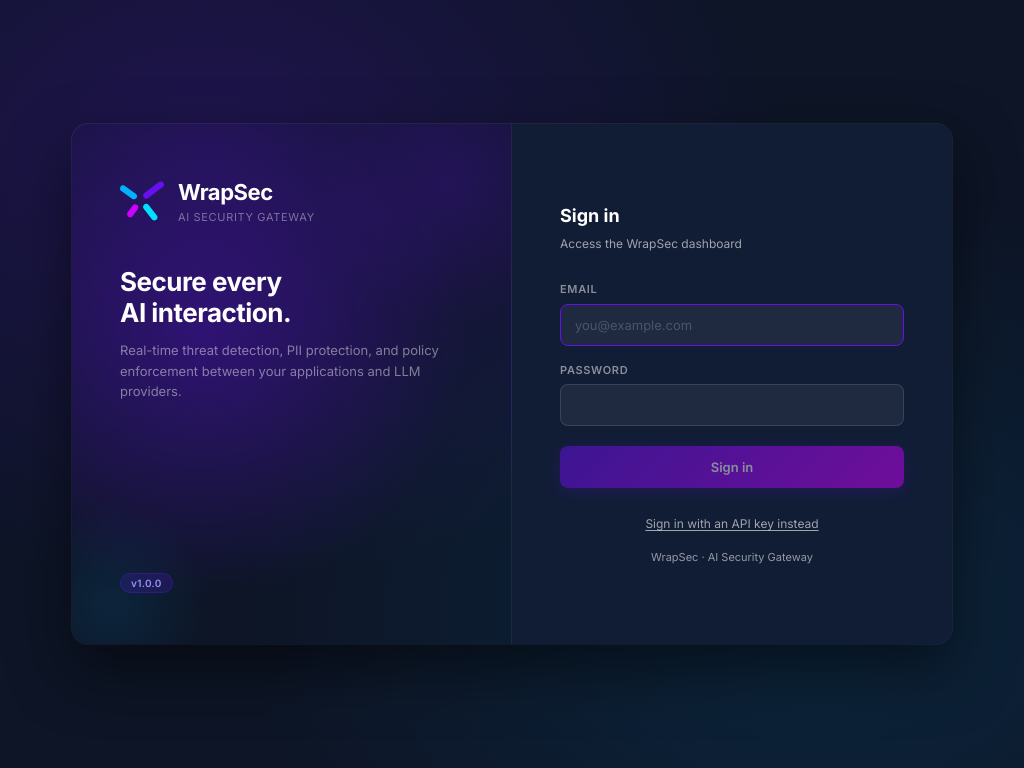
it: LoginPage credentials flow › maps ACCOUNT_LOCKED to the locked error message
Step 1. Type "a@b.com" into the field with placeholder "you@example.com" → (732, 325), box x1=560 y1=304 x2=904 y2=346
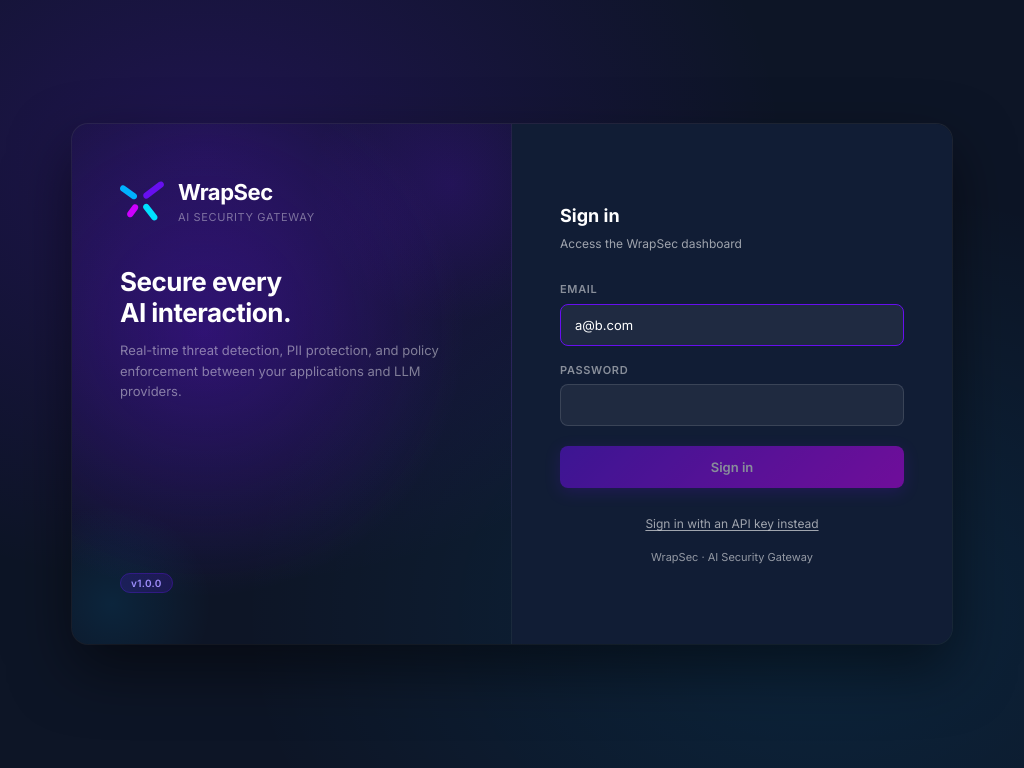
Step 2. Type "pw123456" into the password field named "Password" → (732, 405), box x1=560 y1=384 x2=904 y2=426
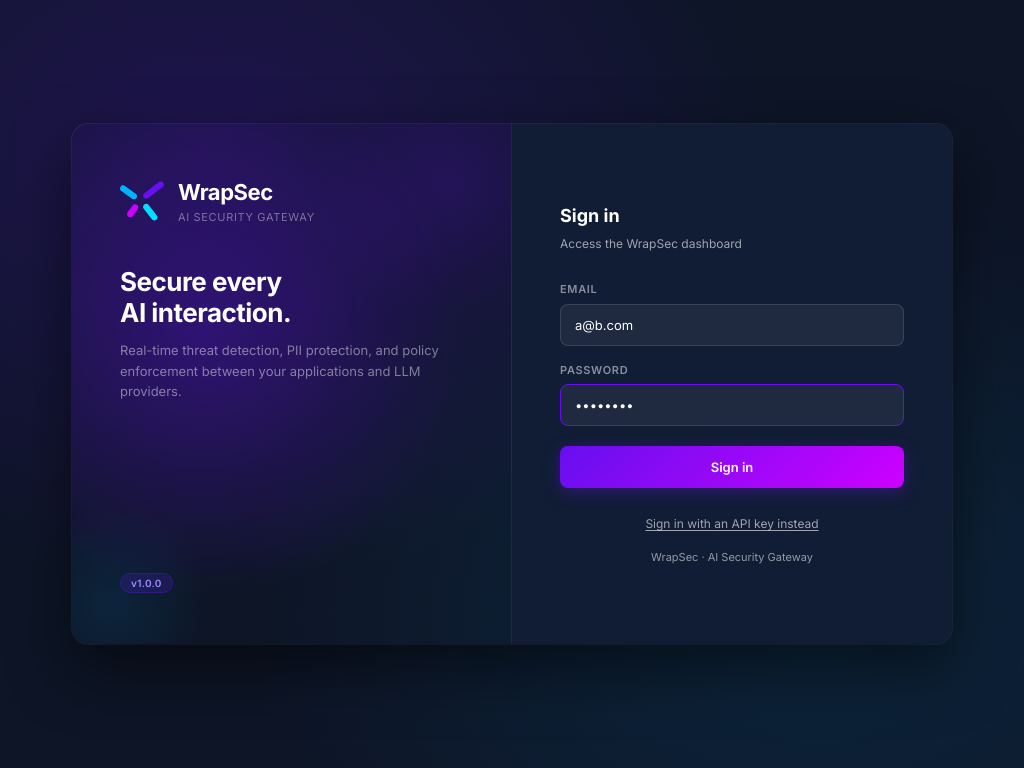
Step 3. Click the button "Sign in" → (732, 467), box x1=560 y1=446 x2=904 y2=488
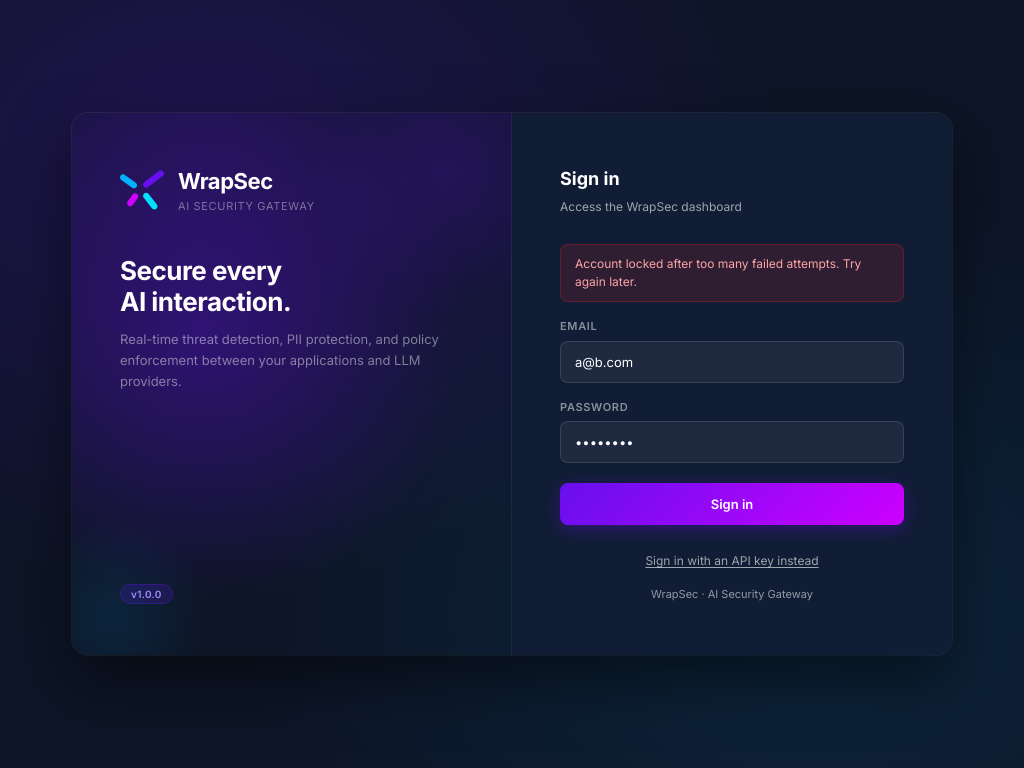
Check: the text "Account locked" is shown, box x1=575 y1=256 x2=861 y2=289
